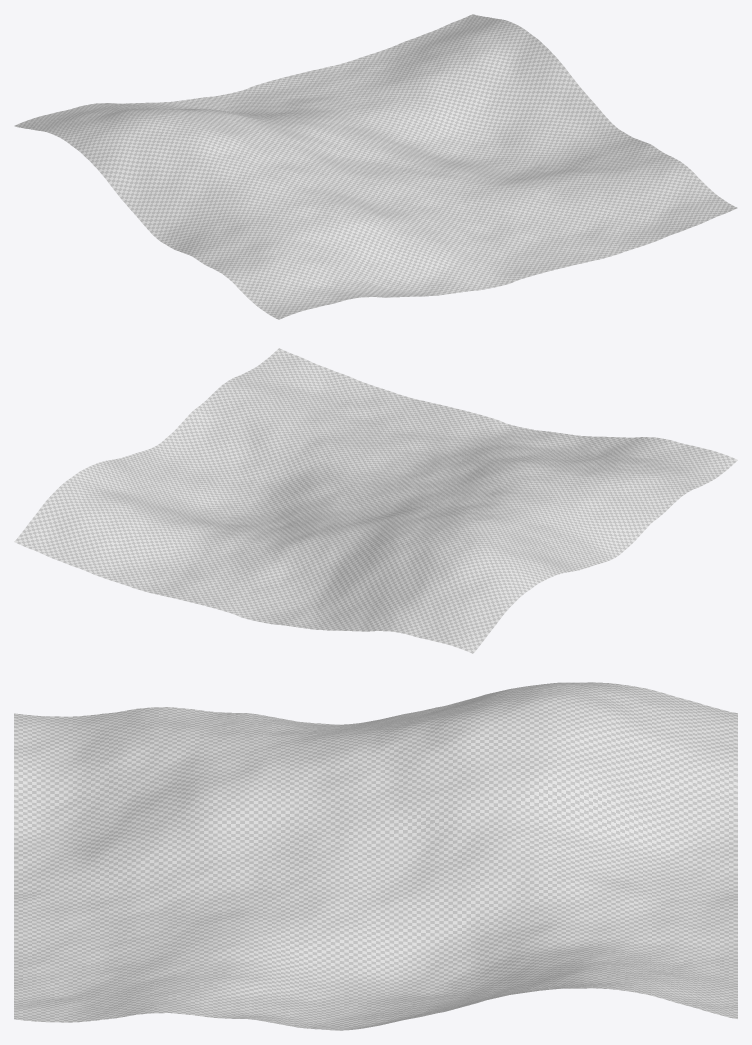
File: terrain.obj
3 views of the same model, one above another, from view 1: azimuth 30°, elevation 25°; view 2: azimuth 150°, elevation 25°; view 3: azimuth 270°, elevation 25° (orthographic). The views are drawn at different scales.
Parts seen in each view (by area): view 1: Terrain; view 2: Terrain; view 3: Terrain.
Part boxes in pixels (box(x1,y1,x2,y2)): Terrain: box(14, 14, 737, 319); Terrain: box(14, 348, 737, 653); Terrain: box(14, 682, 737, 1030).
Bounding box in the file's own units: 89 × 12.75 × 89.
Materials: 1 (1 with a texture image).
